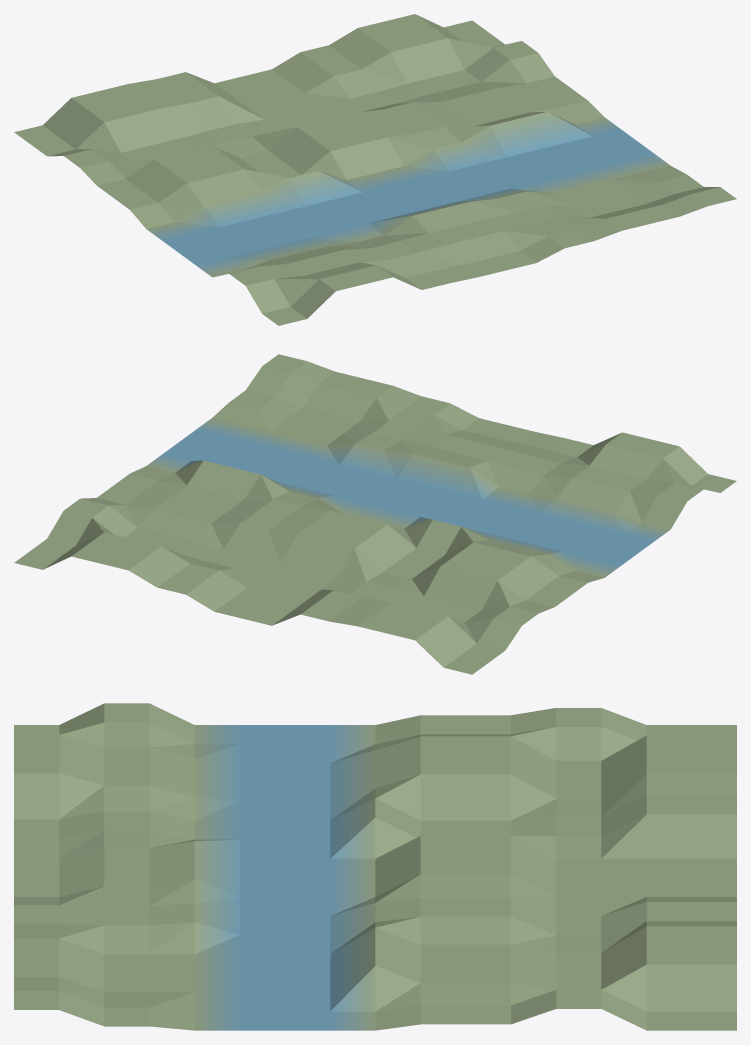
3 renders of one model, top to bottom at view 1: azimuth 30°, elevation 25°; view 2: azimuth 150°, elevation 25°; view 3: azimuth 270°, elevation 25°, orthographic. The views are drawn at different scales.
Bounding box in the file's own units: 32 × 1.38 × 32.
